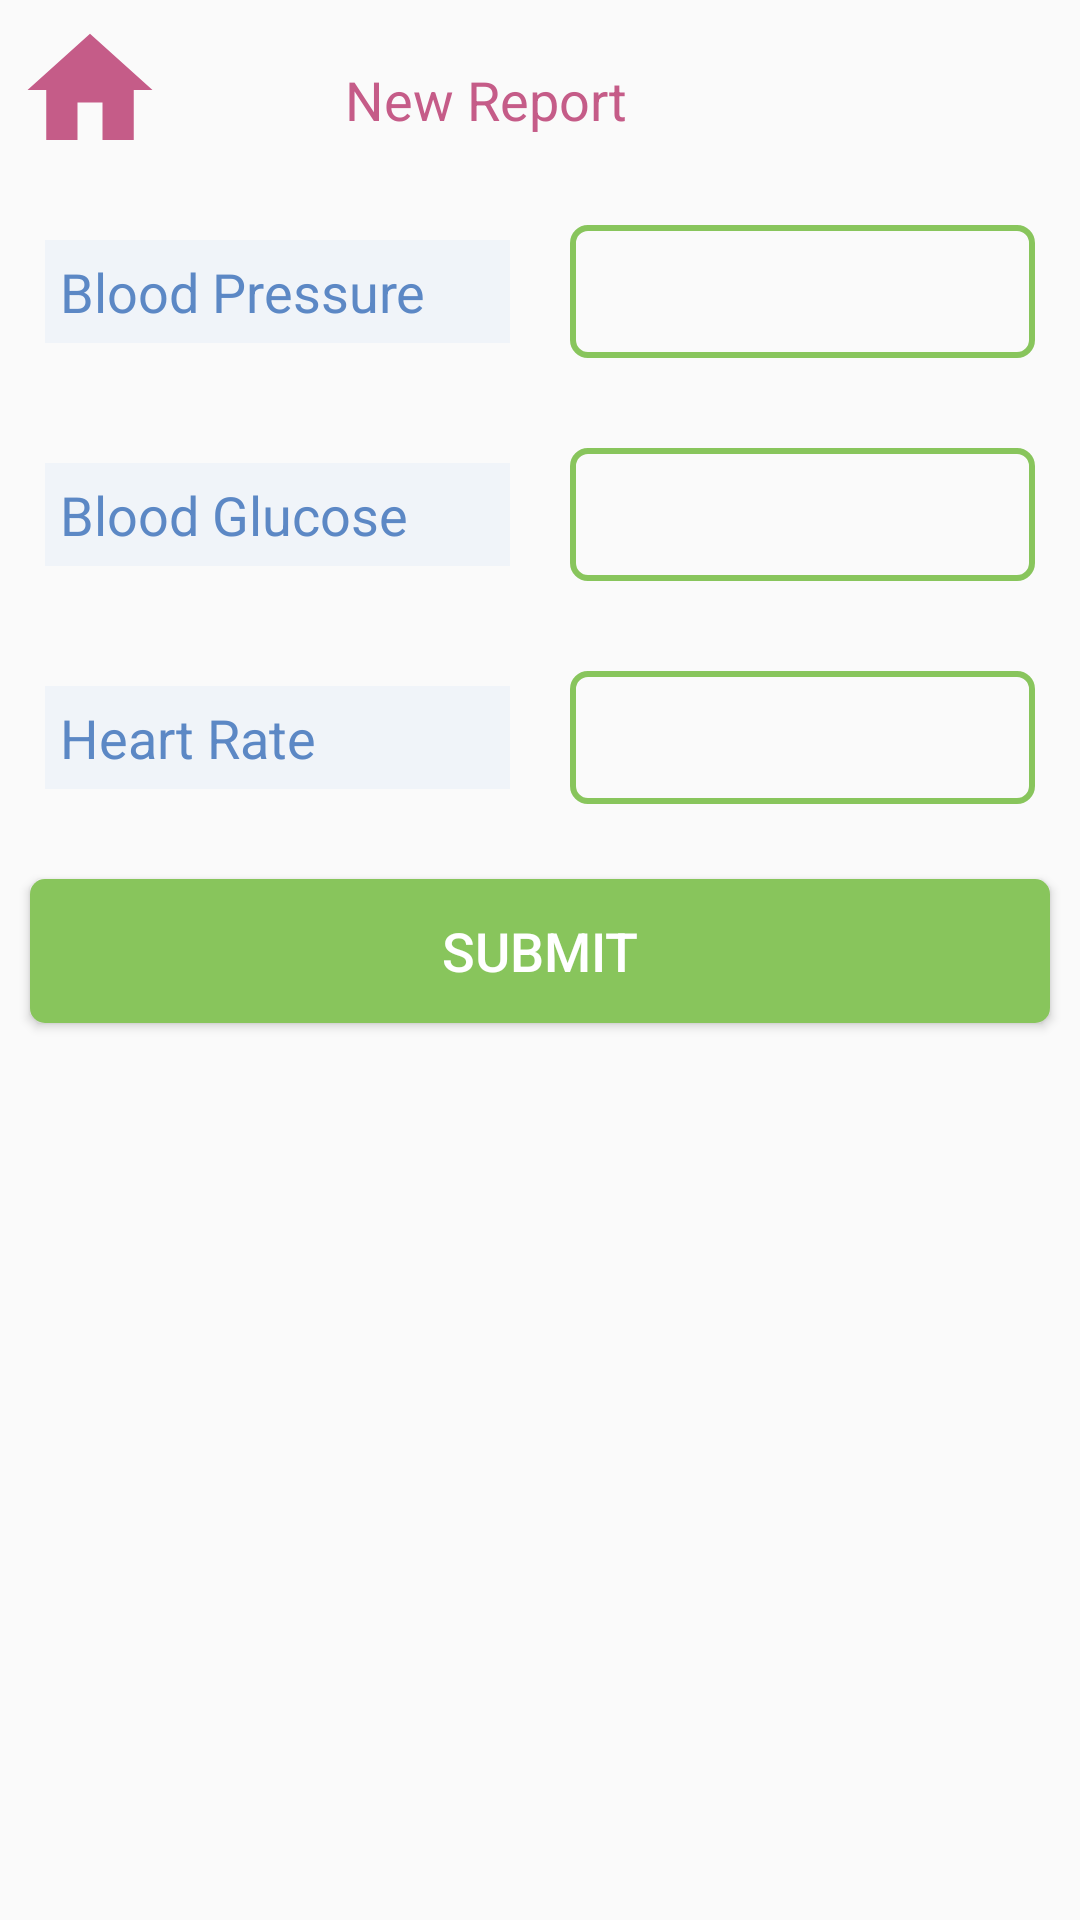

Icon bounding boxes for this 1080×1920 phone screenshot, format (x1, y1, x2, y2):
home page: (28, 34, 152, 140)
